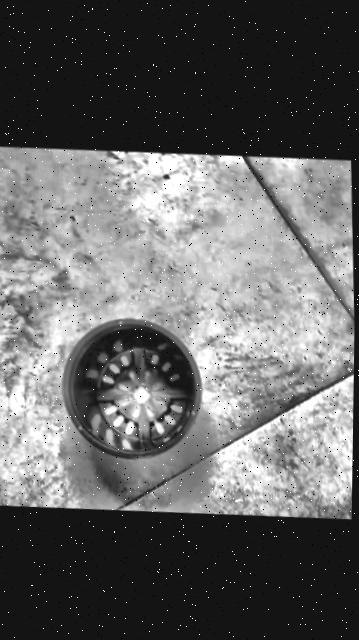pot: (57, 311, 202, 468)
